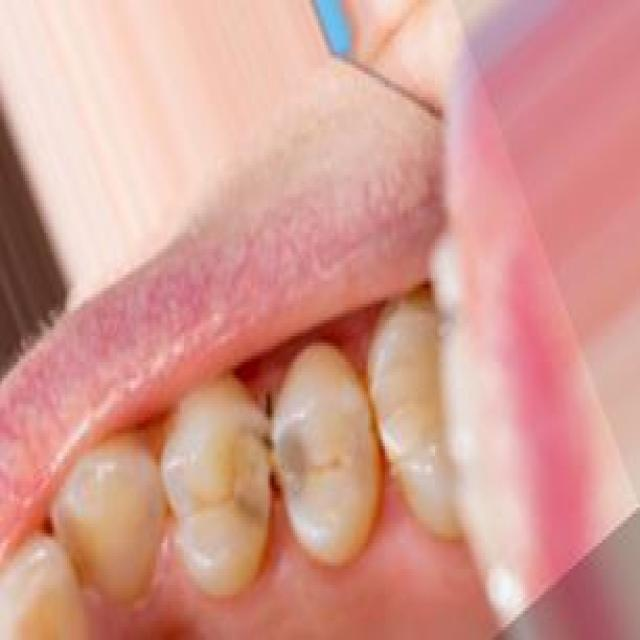caries: (216, 393, 326, 540)
